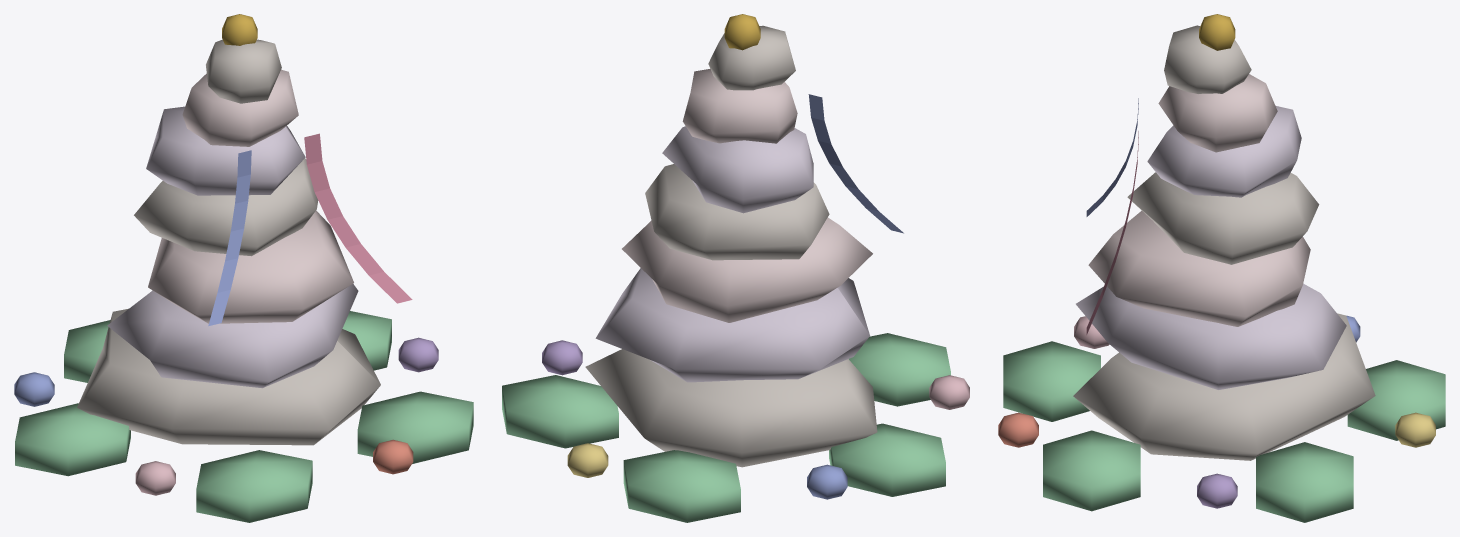
File: fells_cairn.gltf
3 renders of one model, left to right at view 1: azimuth 30°, elevation 25°; view 2: azimuth 150°, elevation 25°; view 3: azimuth 270°, elevation 25°, orthographic.
Parts seen in each view (by area): view 1: fells_cairn; view 2: fells_cairn; view 3: fells_cairn.
Part boxes in pixels (bbox=[...]): fells_cairn: bbox=[14, 14, 473, 522]; fells_cairn: bbox=[502, 14, 969, 522]; fells_cairn: bbox=[998, 14, 1445, 522].
Size of what is drawn, in the model's own units: 1.84 by 1.79 by 1.71.
